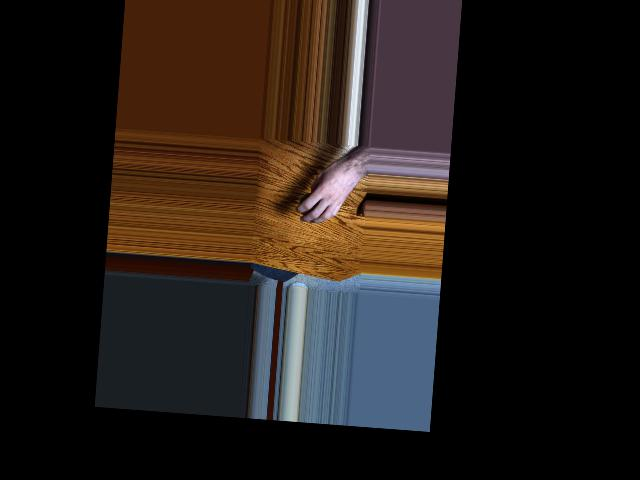onion: (298, 189, 322, 217)
